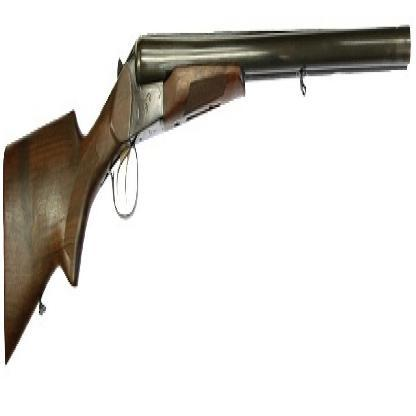gun: (2, 3, 413, 388)
